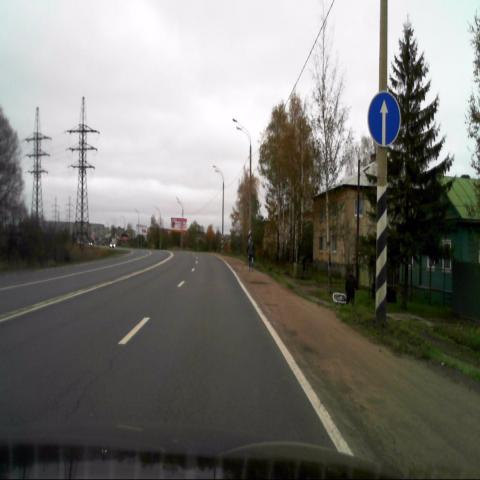4_1_1: (368, 93, 400, 147)
